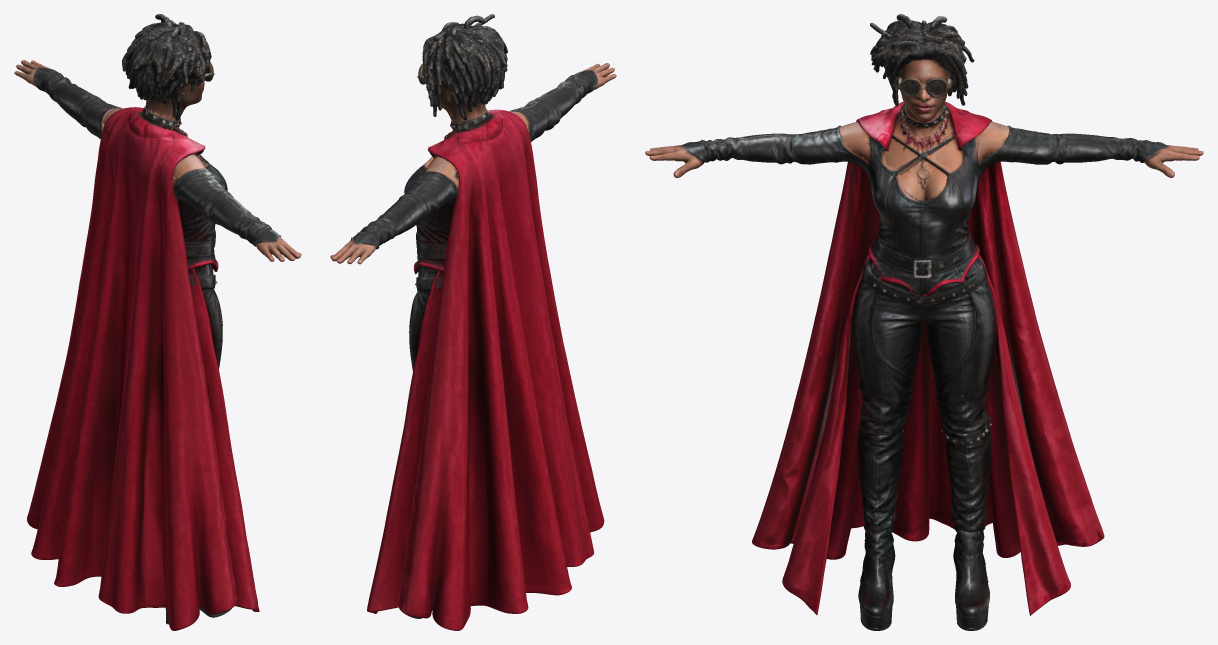
The model's file is theory-a2-render.glb.
3 views of the same model, side by side, from view 1: azimuth 30°, elevation 25°; view 2: azimuth 150°, elevation 25°; view 3: azimuth 270°, elevation 25° (orthographic). The views are drawn at different scales.
Parts seen in each view (by area): view 1: tripo_node_498685fc-a329-4ce5-84d0-a38fd292fc3c; view 2: tripo_node_498685fc-a329-4ce5-84d0-a38fd292fc3c; view 3: tripo_node_498685fc-a329-4ce5-84d0-a38fd292fc3c.
Boxes of the visible parts, x1,y1,x2,y2 form: tripo_node_498685fc-a329-4ce5-84d0-a38fd292fc3c: [14, 14, 301, 630]; tripo_node_498685fc-a329-4ce5-84d0-a38fd292fc3c: [330, 14, 616, 630]; tripo_node_498685fc-a329-4ce5-84d0-a38fd292fc3c: [645, 14, 1203, 630].
Bounding box in the file's own units: 0.2702 × 0.9809 × 0.8281.
1 material, 1 textured.
